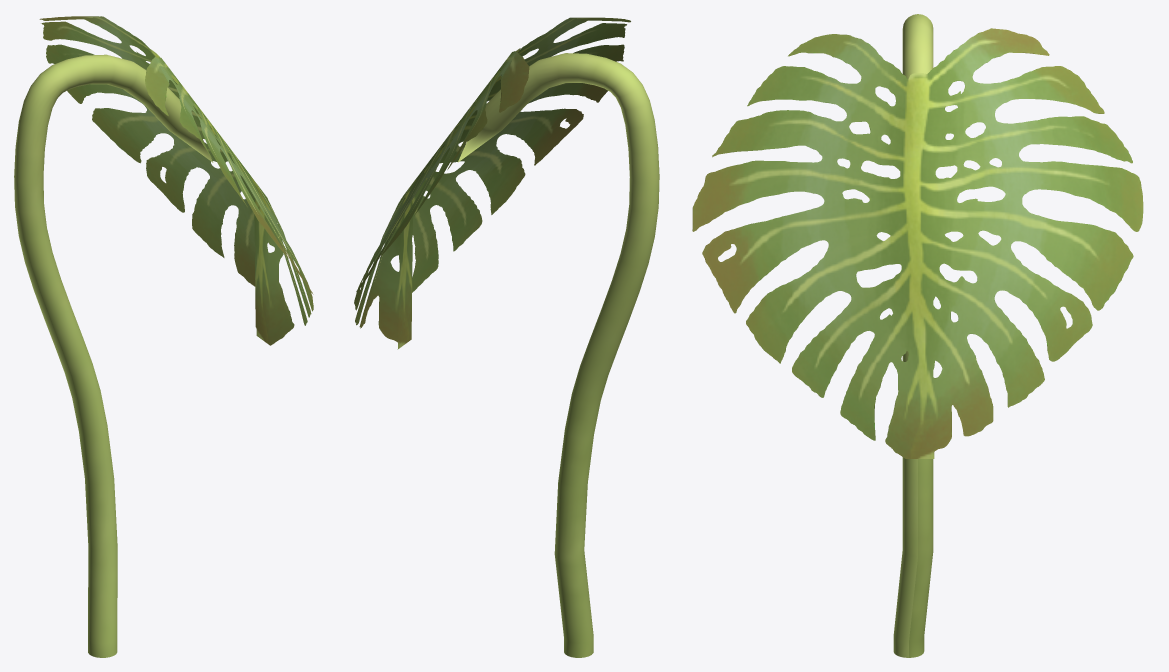
File: Monstera.fbx
The picture shows the model from 3 angles, left to right: view 1: azimuth 30°, elevation 25°; view 2: azimuth 150°, elevation 25°; view 3: azimuth 270°, elevation 25°; orthographic projection. The views are drawn at different scales.
Parts seen in each view (by area): view 1: Monstera1; view 2: Monstera1; view 3: Monstera1.
Part boxes in pixels (left/top/right/bottom): Monstera1: left=14, top=16, right=313, bottom=657; Monstera1: left=354, top=17, right=659, bottom=657; Monstera1: left=692, top=14, right=1143, bottom=657.
Size of the model in its own units: 67.49 by 148 by 97.12.
